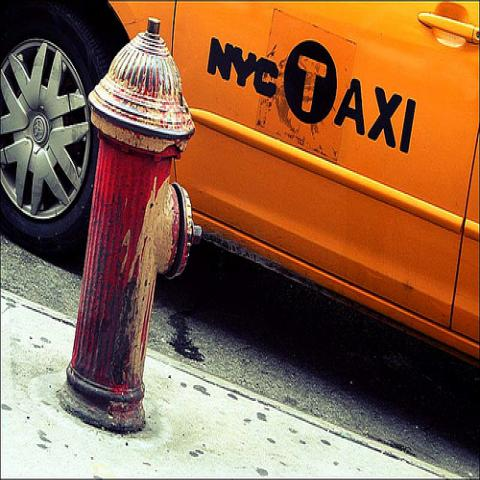car: (0, 0, 479, 374)
